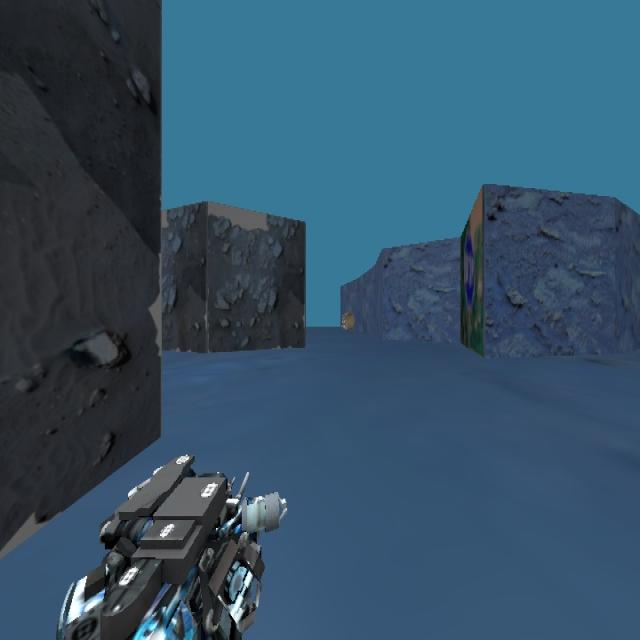Stop_Sign: (459, 184, 485, 356)
